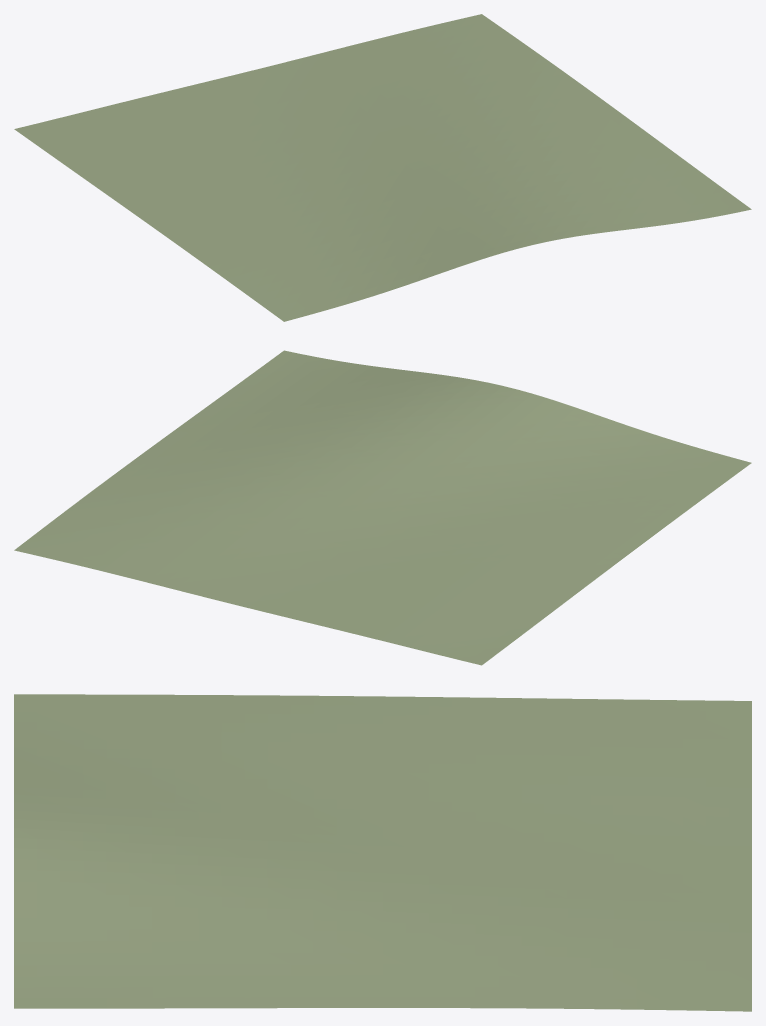
File: desert-9-2.glb
3 renders of one model, top to bottom at view 1: azimuth 30°, elevation 25°; view 2: azimuth 150°, elevation 25°; view 3: azimuth 270°, elevation 25°, orthographic. The views are drawn at different scales.
Visible parts, largest first — view 1: desert-9-2; view 2: desert-9-2; view 3: desert-9-2.
Boxes of the visible parts, bbox=[...] form: desert-9-2: bbox=[14, 14, 751, 321]; desert-9-2: bbox=[14, 350, 751, 665]; desert-9-2: bbox=[14, 694, 751, 1011].
Size of the model in its own units: 512 by 22.16 by 512.
